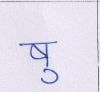u_matra: (42, 69, 60, 84)
